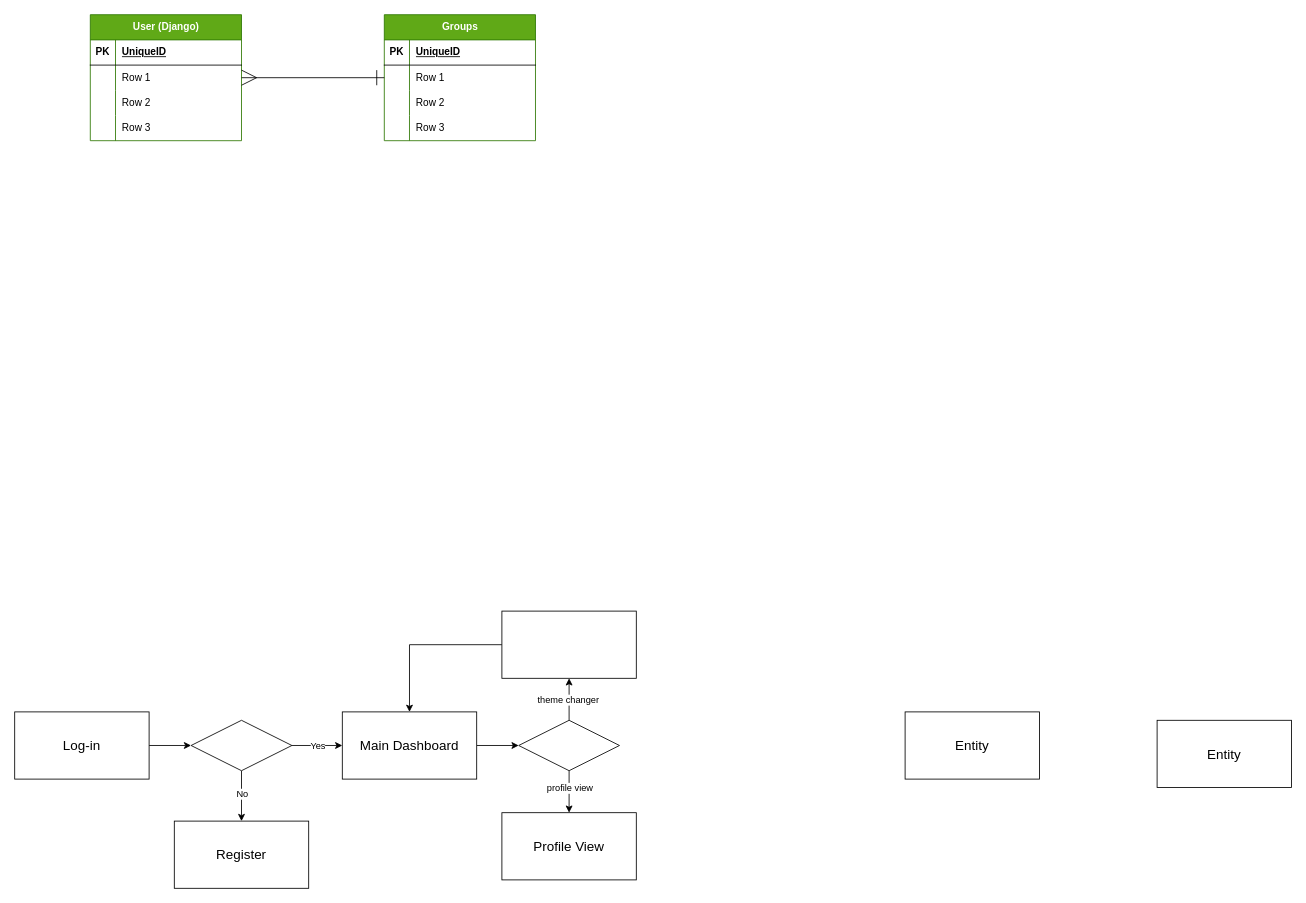
Some shapes in this 1306 by 903 pixel diagram are drawn without their labels. Here are the shapes that lost their labels. From the top down, the centre of each, then its label:
At [568,644]: "Changed Theme (toggle)".
At [241,745]: "Has account?".
At [569,745]: "Navigation direction".
